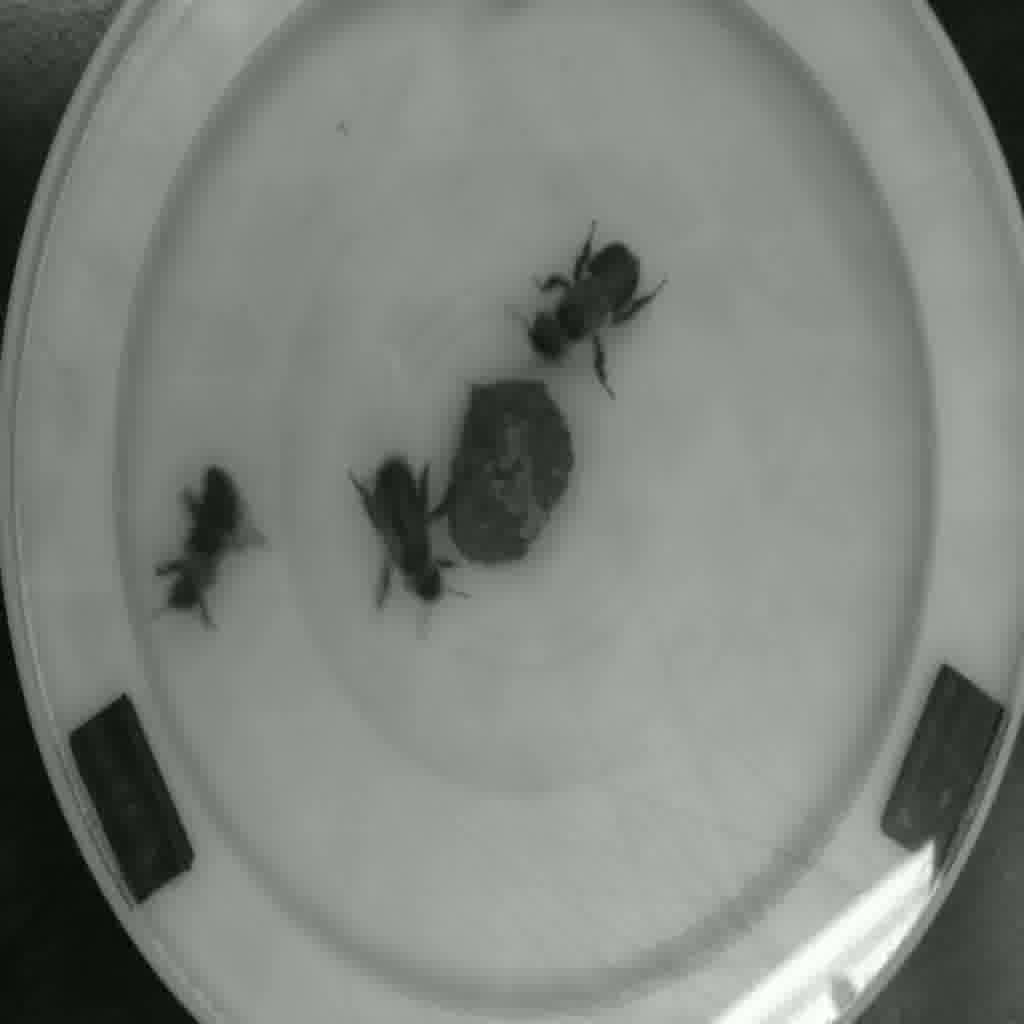bee: (333, 454, 484, 637), (148, 462, 269, 648), (527, 213, 651, 372)
